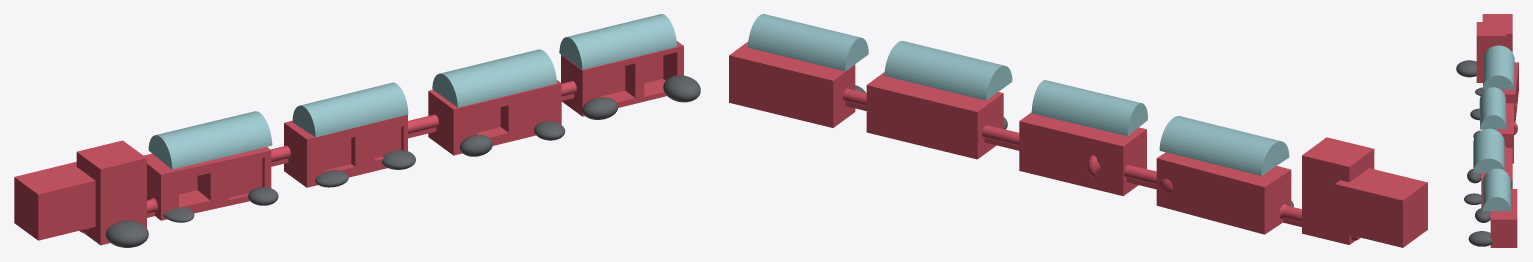
Rendered from Epic Esboo.glb.
3 views of the same model, side by side, from view 1: azimuth 30°, elevation 25°; view 2: azimuth 150°, elevation 25°; view 3: azimuth 270°, elevation 25° (orthographic). The views are drawn at different scales.
Visible parts, largest first — view 1: Mesh_Mesh_head_geo.001_lambert2SG.001; view 2: Mesh_Mesh_head_geo.001_lambert2SG.001; view 3: Mesh_Mesh_head_geo.001_lambert2SG.001.
Part boxes in pixels (x1,y1,x2,y2): Mesh_Mesh_head_geo.001_lambert2SG.001: (14, 14, 700, 247); Mesh_Mesh_head_geo.001_lambert2SG.001: (729, 14, 1427, 247); Mesh_Mesh_head_geo.001_lambert2SG.001: (1456, 14, 1518, 247).
Size of the model in its own units: 299 by 33 by 40.
